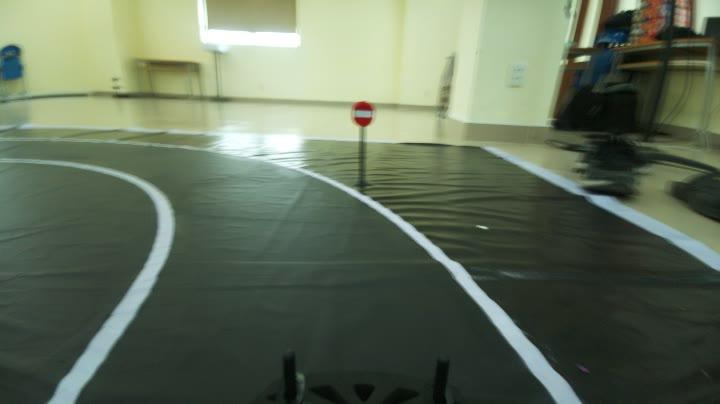no_entry: (348, 100, 378, 127)
